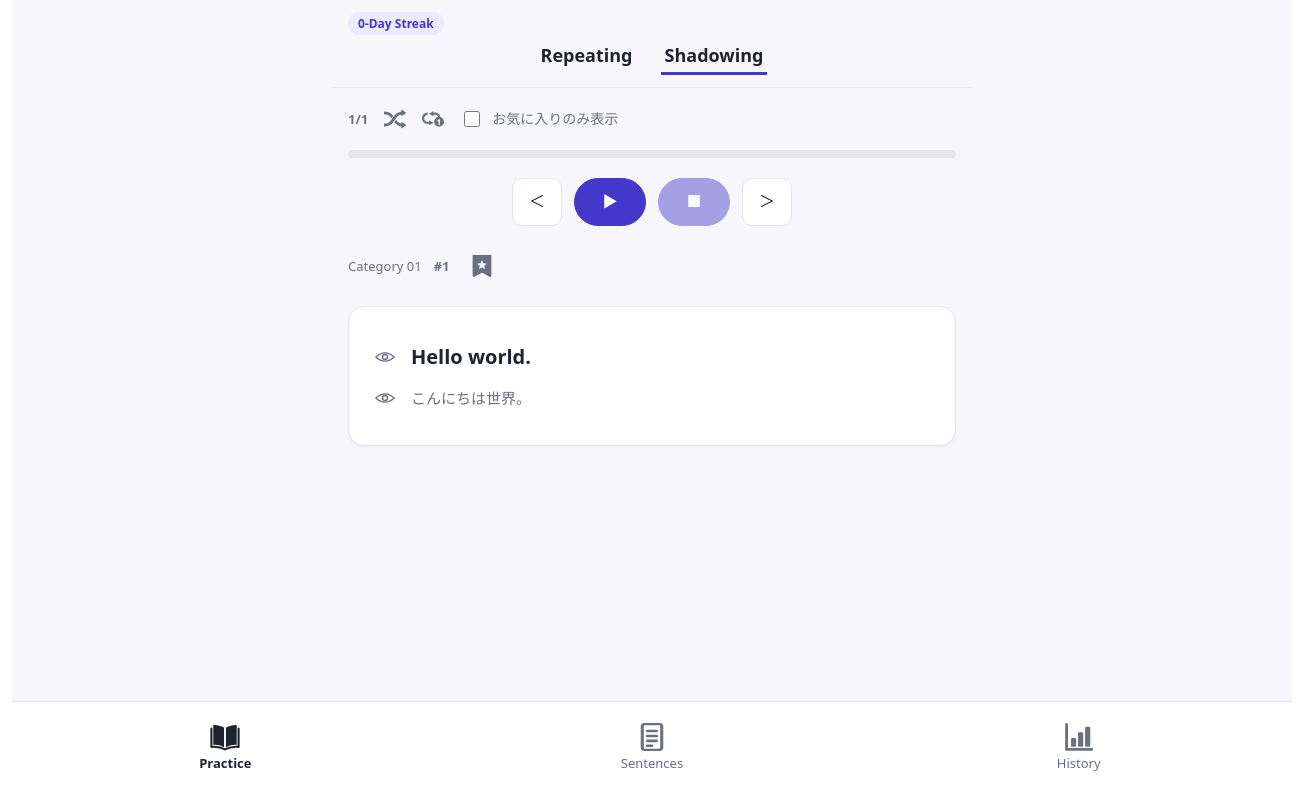
it: App › 英文選択タブに切り替えると英文選択画面が表示される
This screenshot has width=1304, height=800.
expect the text "Hello world." is shown: met, box x1=411 y1=342 x2=531 y2=372
What coordinates should you click on to do the following:
click the button "Sentences"
I would click on:
 (652, 751)
Its box is x1=439 y1=702 x2=865 y2=799.
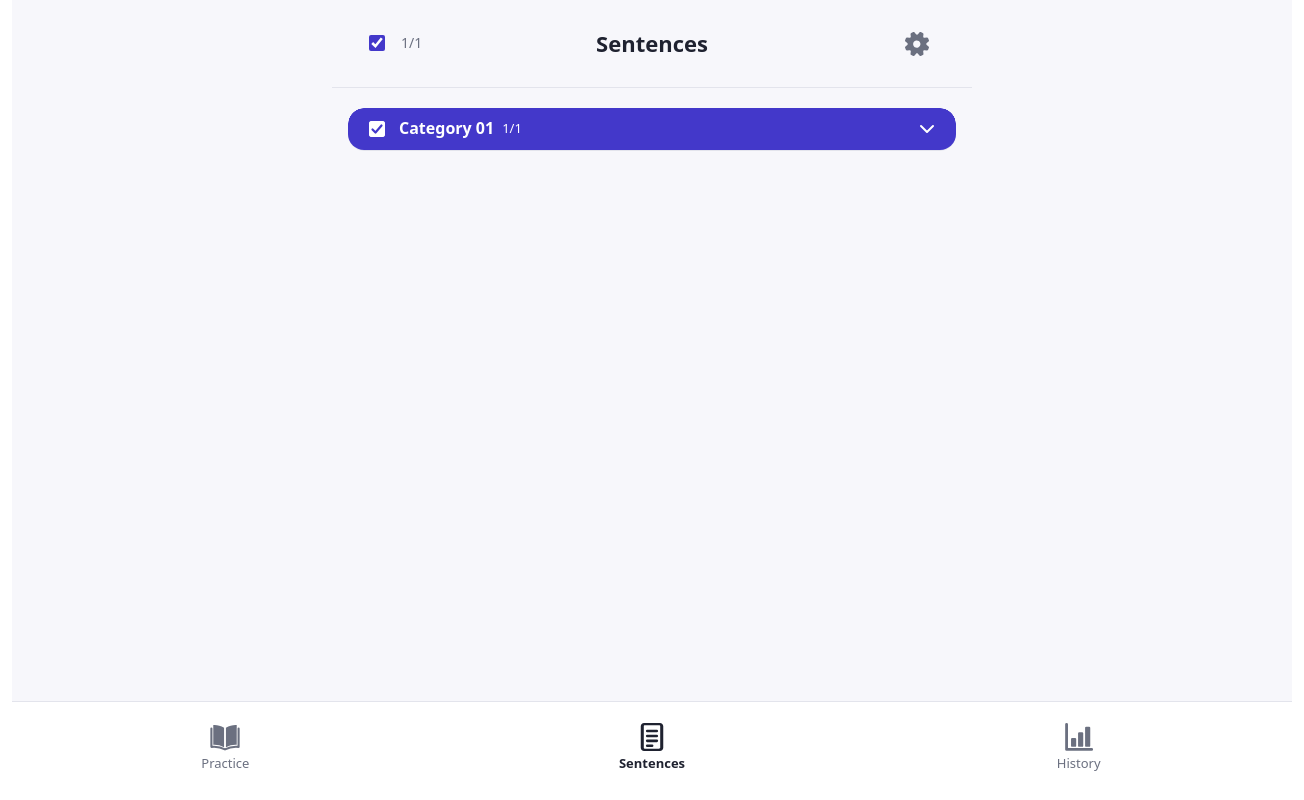
expect the heading "Category 01 1/1" is shown: met, box x1=399 y1=108 x2=939 y2=150
